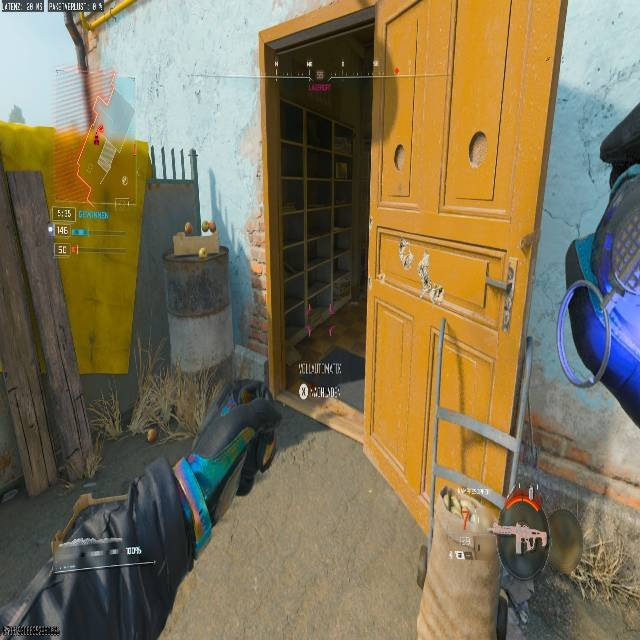head: (562, 76, 640, 456)
